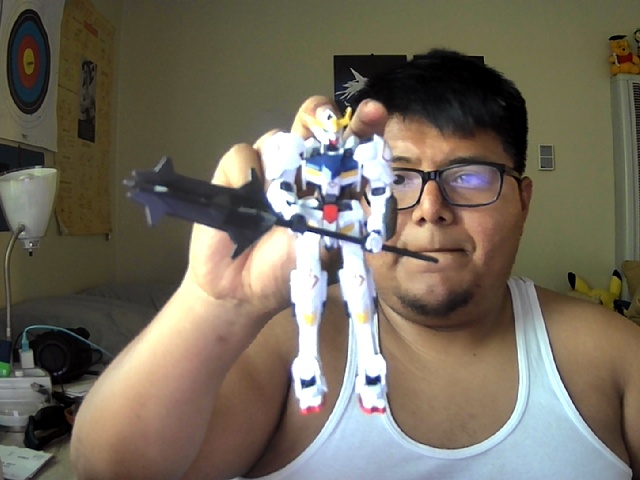Barbatos: (121, 107, 440, 415)
